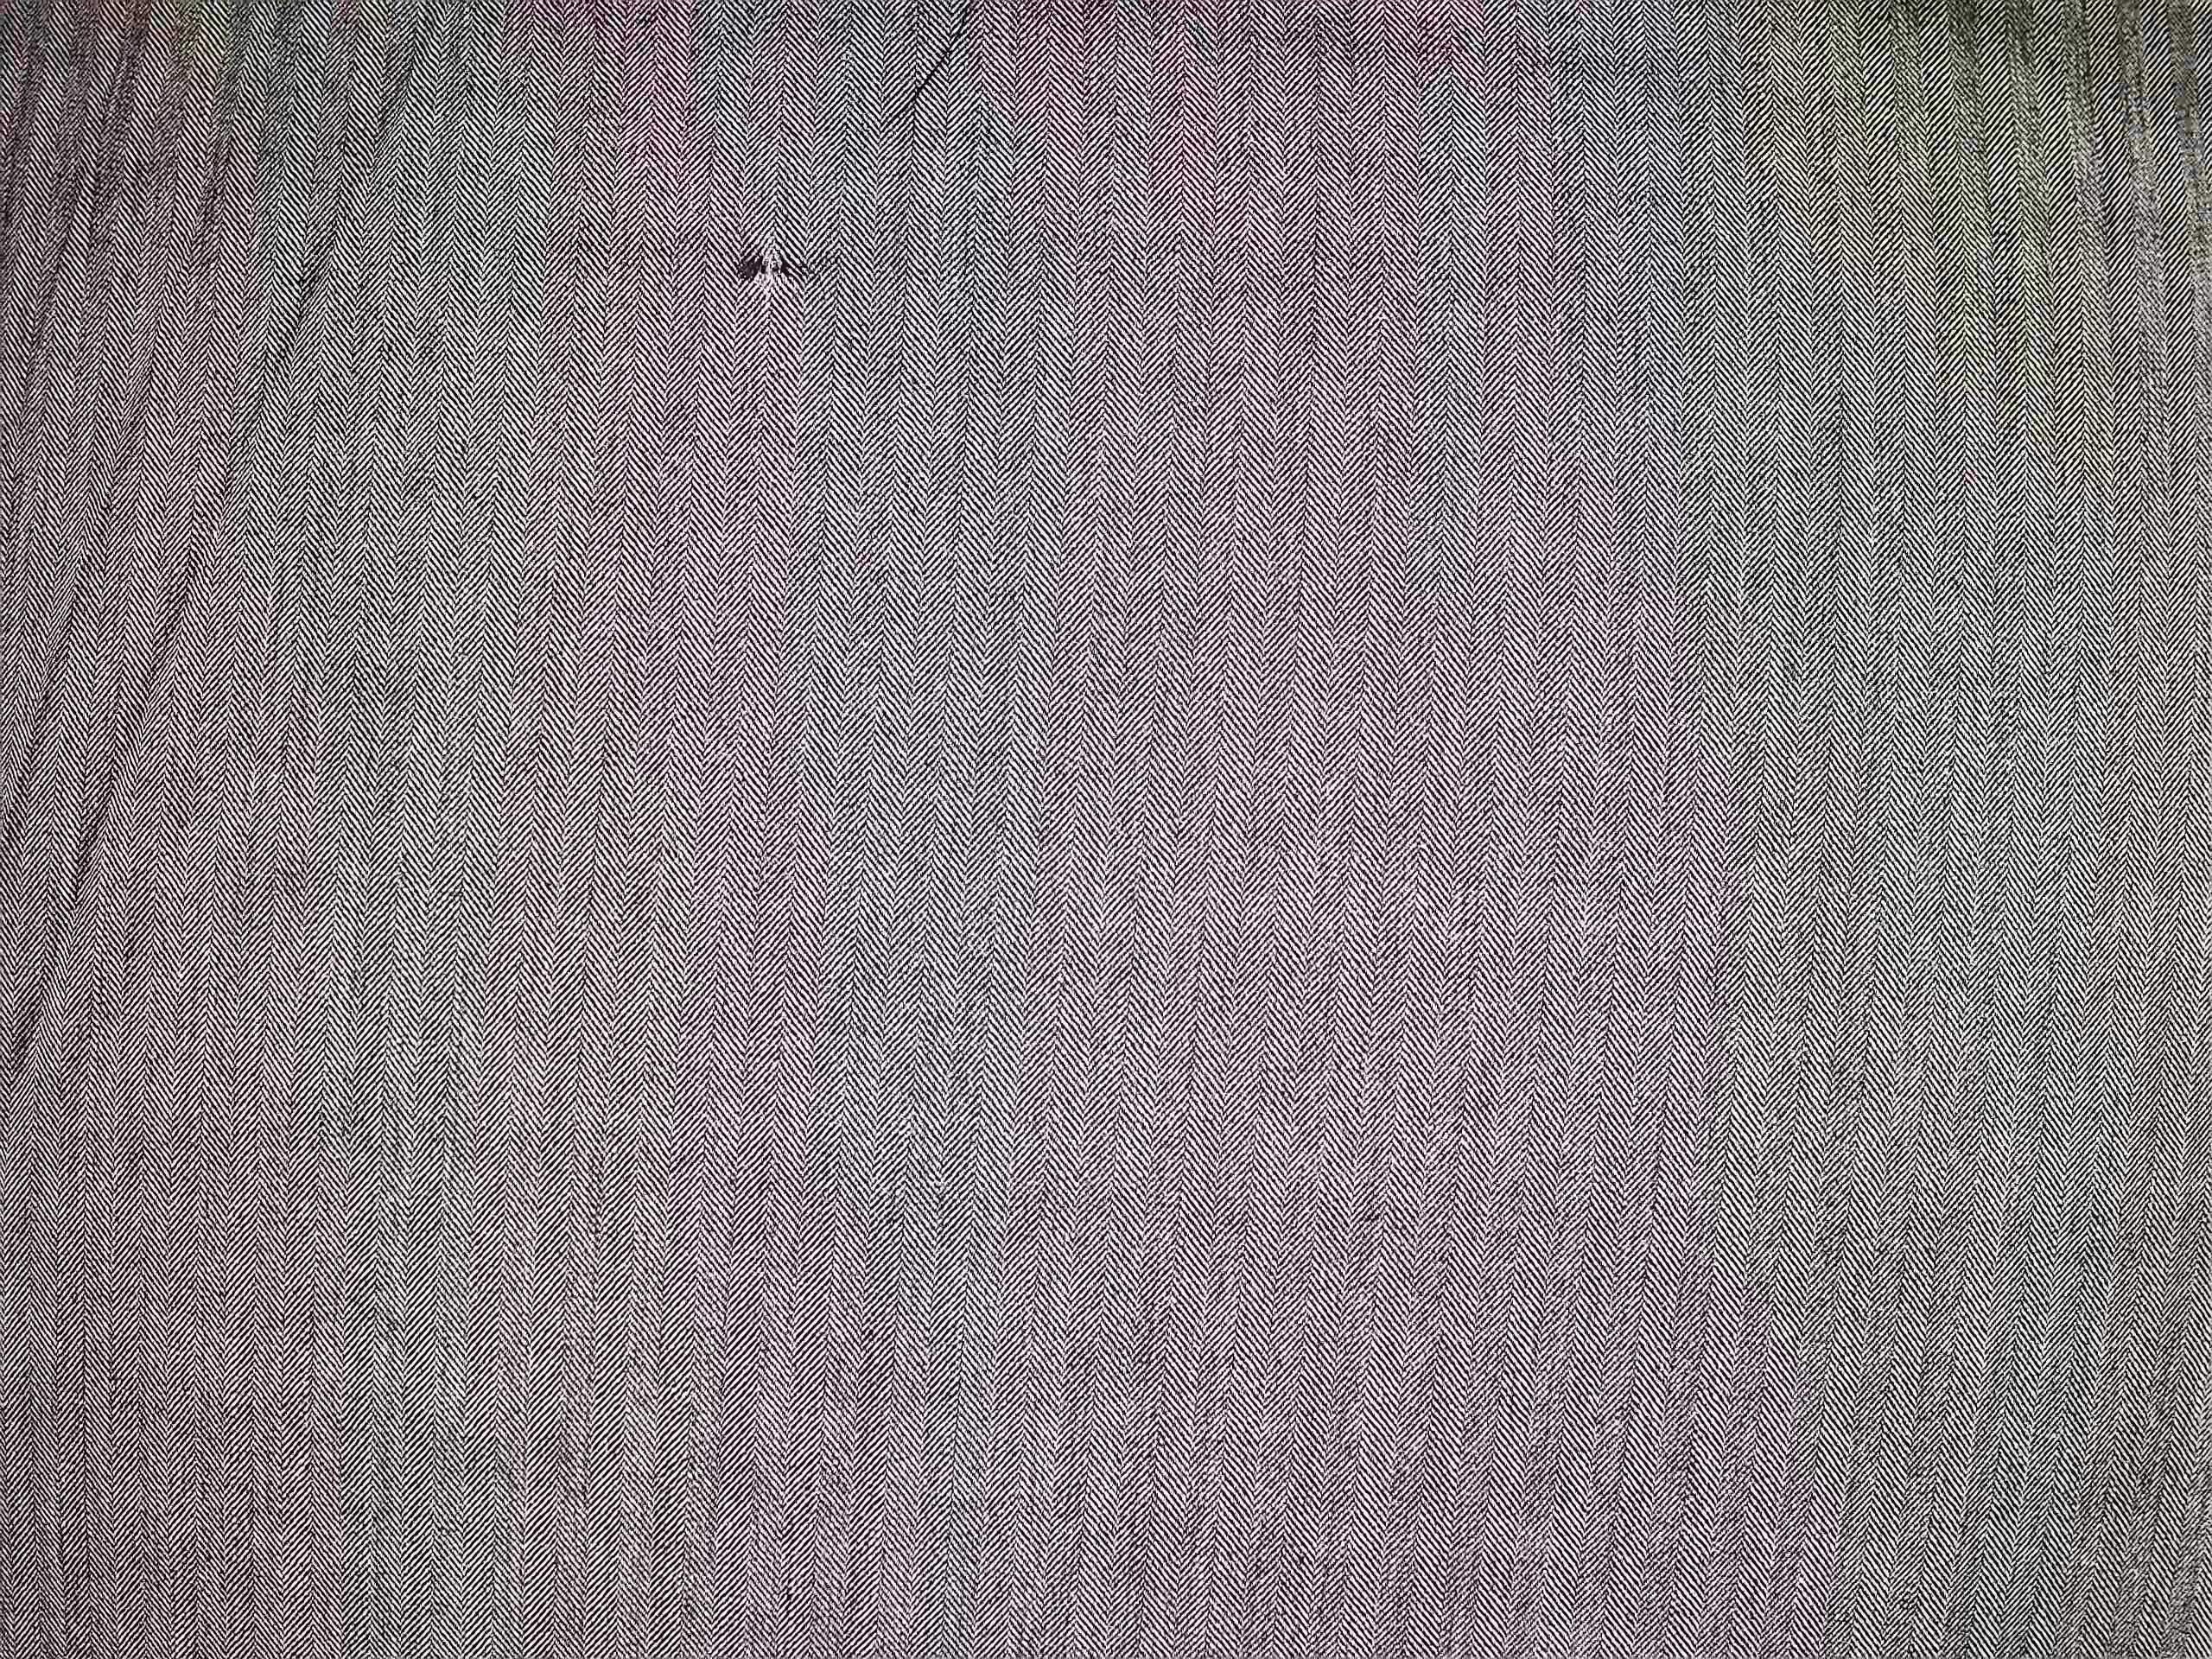rubbing-hole: (711, 227, 850, 310)
